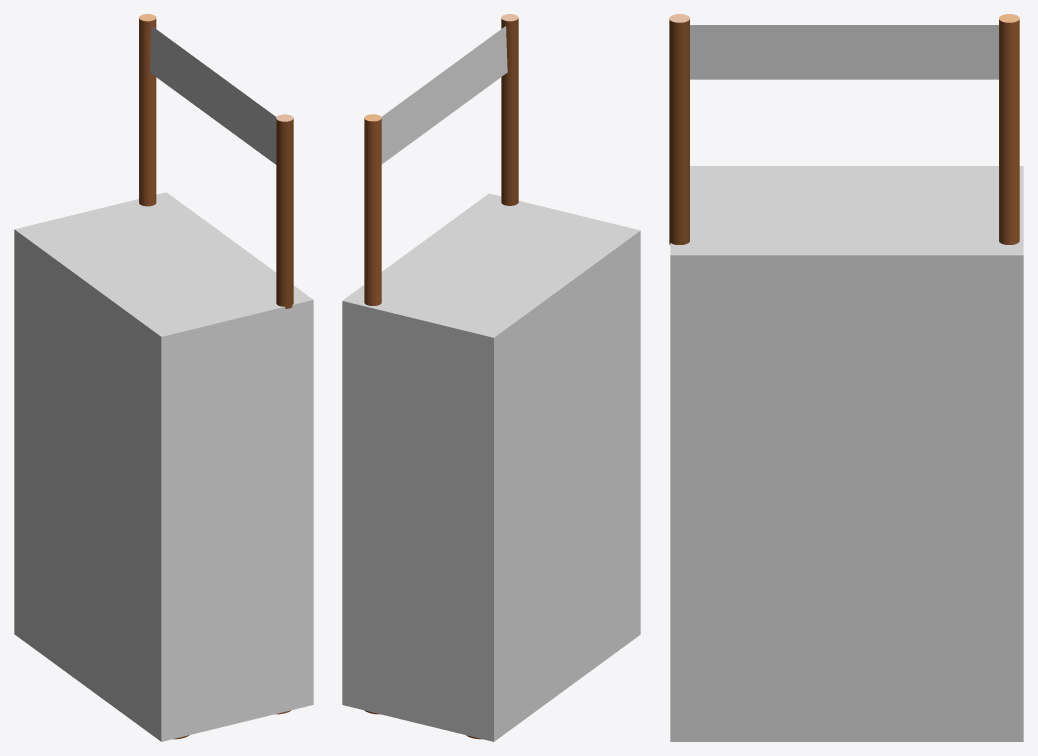
The model's file is Start.gltf.
The picture shows the model from 3 angles, left to right: view 1: azimuth 30°, elevation 25°; view 2: azimuth 150°, elevation 25°; view 3: azimuth 270°, elevation 25°; orthographic projection. The views are drawn at different scales.
Visible parts, largest first — view 1: COLU1, 平面.002, 円柱, 円柱.001; view 2: COLU1, 平面.002, 円柱.001, 円柱; view 3: COLU1, 平面.001, 円柱, 円柱.001.
Boxes of the visible parts, left/top/right/bottom form: COLU1: left=14, top=192, right=313, bottom=741; 平面.002: left=150, top=26, right=276, bottom=164; 円柱: left=276, top=114, right=293, bottom=308; 円柱.001: left=139, top=14, right=156, bottom=206; COLU1: left=342, top=193, right=640, bottom=741; 平面.002: left=381, top=26, right=507, bottom=164; 円柱.001: left=364, top=114, right=381, bottom=305; 円柱: left=501, top=14, right=518, bottom=205; COLU1: left=670, top=166, right=1023, bottom=741; 平面.001: left=690, top=25, right=998, bottom=79; 円柱: left=669, top=14, right=689, bottom=244; 円柱.001: left=999, top=14, right=1019, bottom=244.
Bounding box in the file's own units: 6.83 × 25.51 × 11.47.
